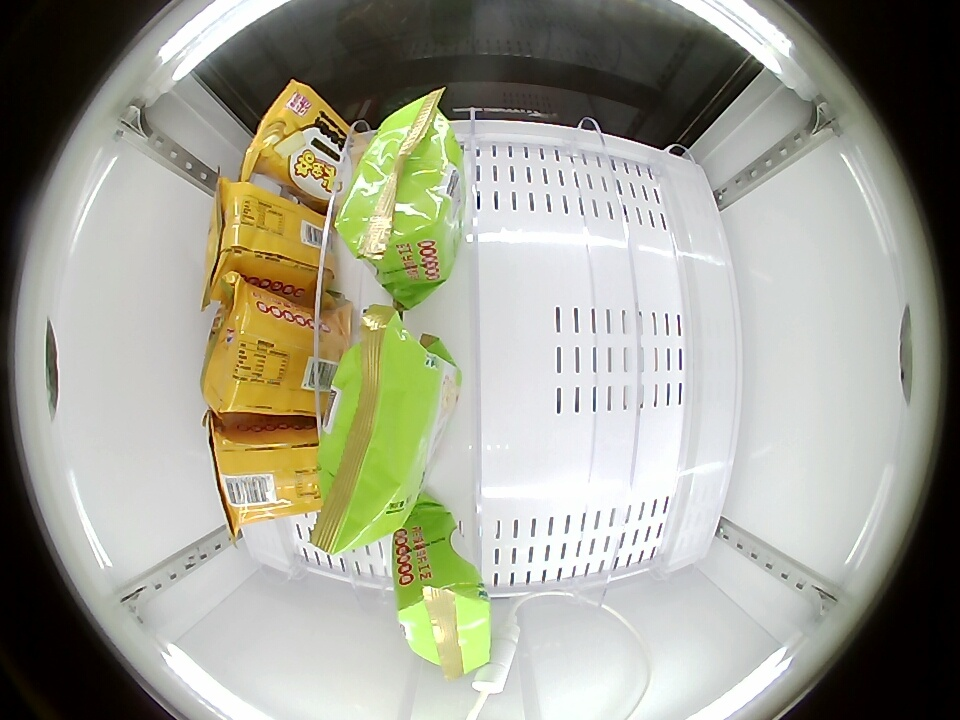kaomo_gali: (200, 283, 345, 414), (206, 182, 330, 299), (247, 81, 354, 203), (211, 421, 325, 525)
kaomo_xiangcon: (317, 321, 457, 551), (338, 96, 464, 291), (392, 507, 493, 674)
